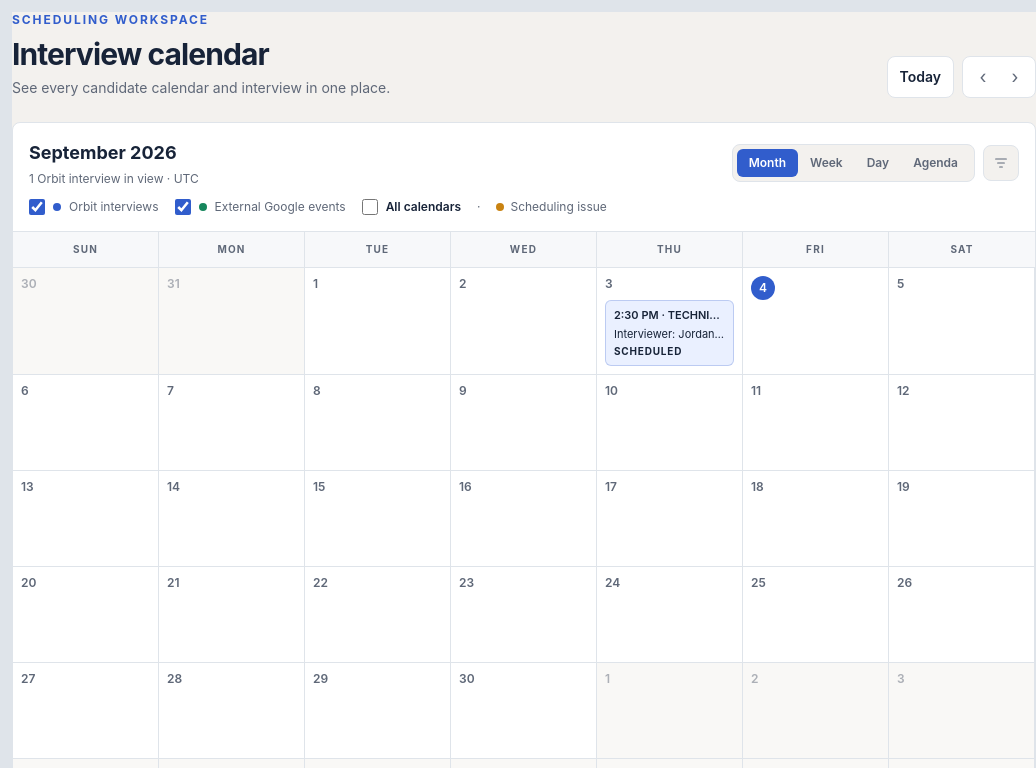
Test: CalendarWorkspace › keeps Admin calendars scoped until All calendars is enabled
The image size is (1036, 768).
Click the checkbox labelled "All calendars" at (370, 207), box [362,199,378,215]
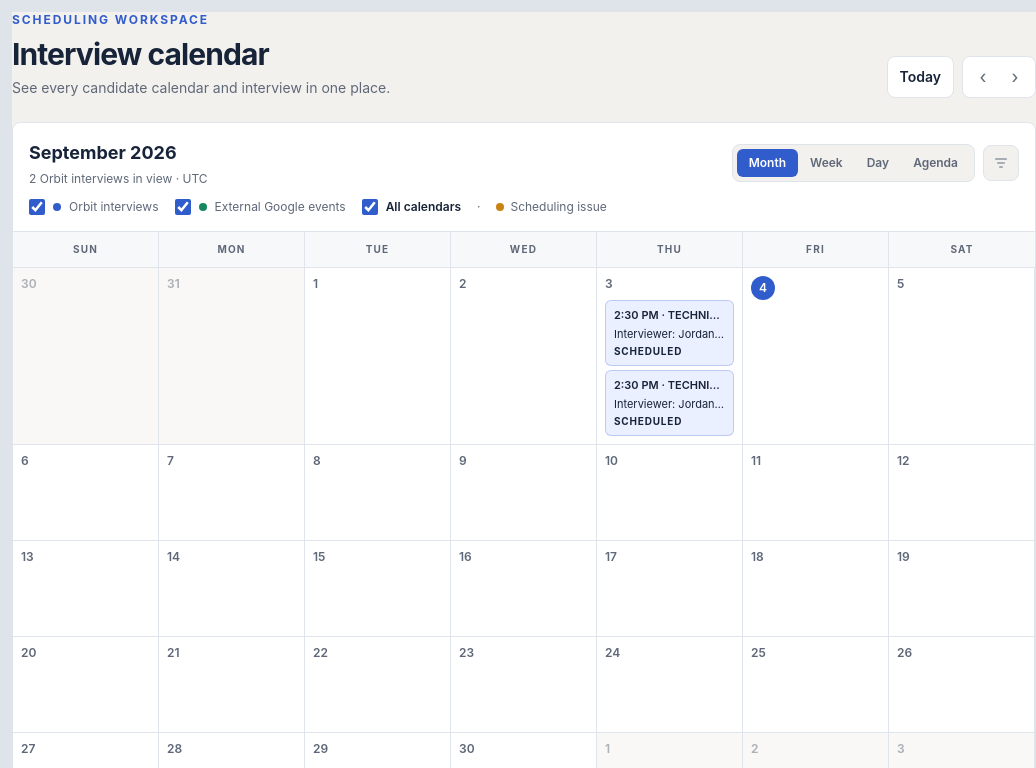
Expected: the text "2 Orbit interviews in view" is shown, [29,171,208,187]
